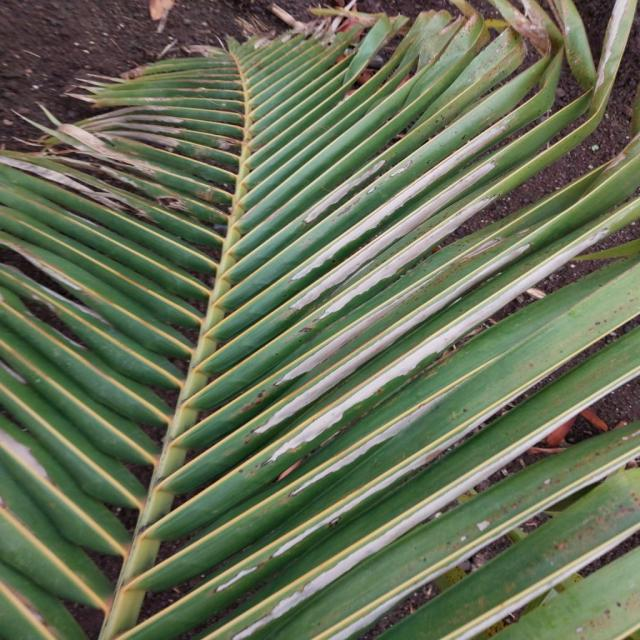gray leaf spot: (274, 119, 570, 629)
